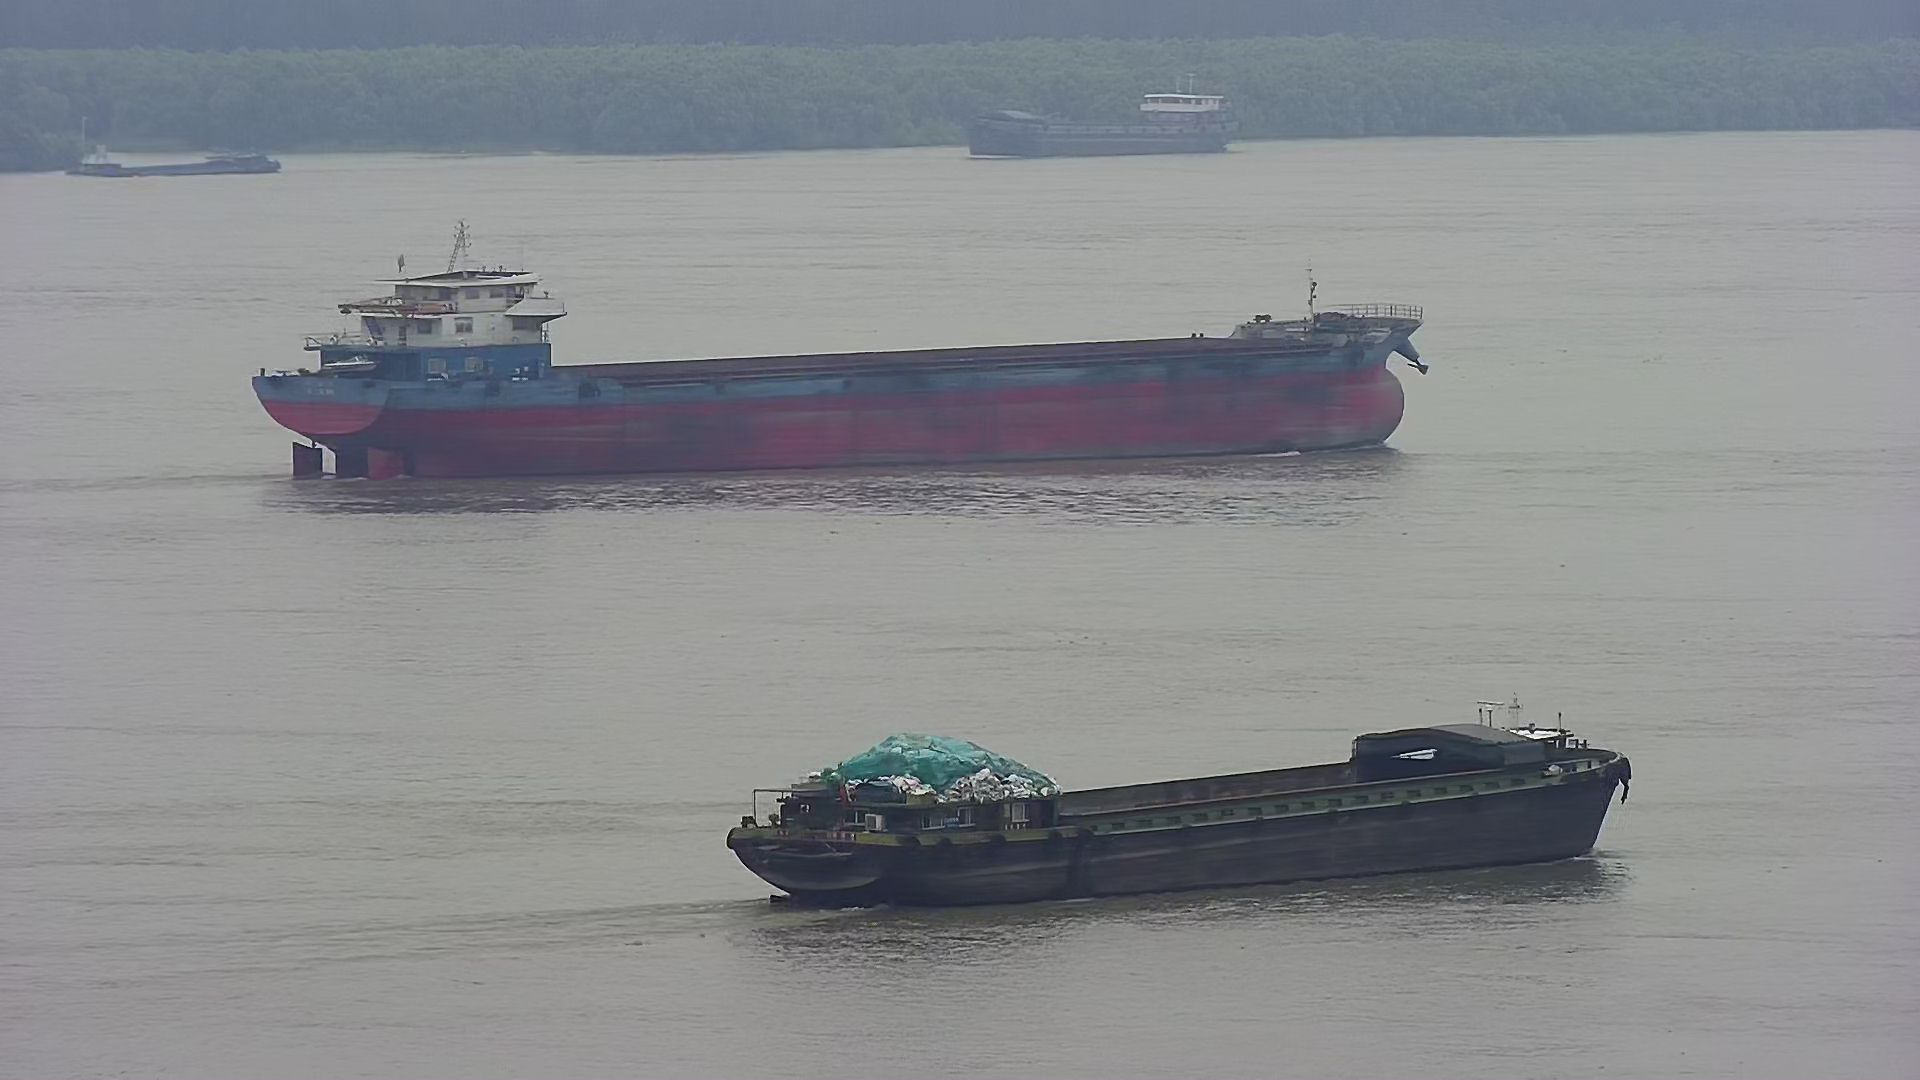boat: (61, 136, 291, 189)
ship: (240, 220, 1432, 506), (682, 667, 1640, 931), (949, 55, 1258, 175)
